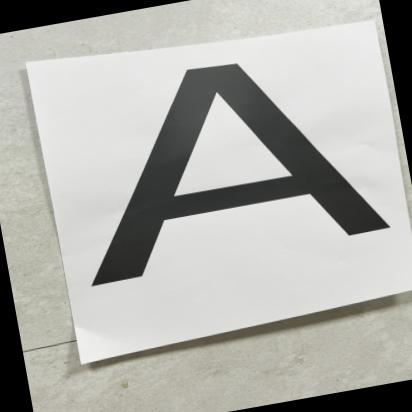seat: (43, 28, 405, 296)
